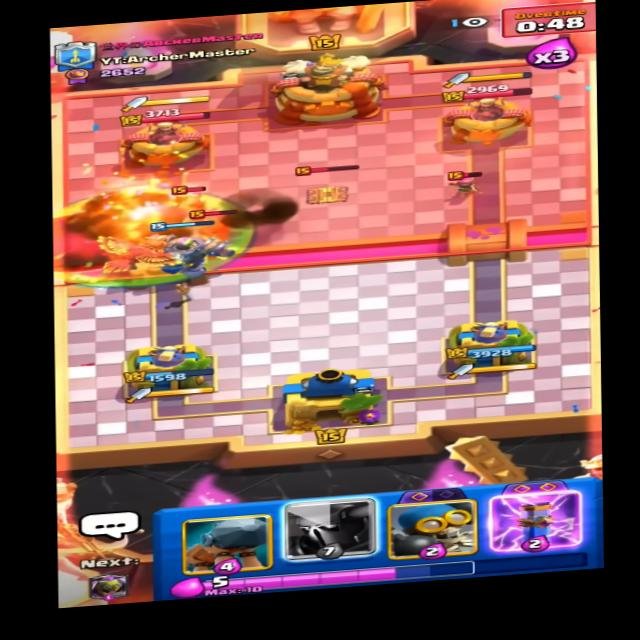archer: (442, 165, 484, 197), (174, 186, 211, 213)
tesla-closed: (293, 163, 362, 208)
